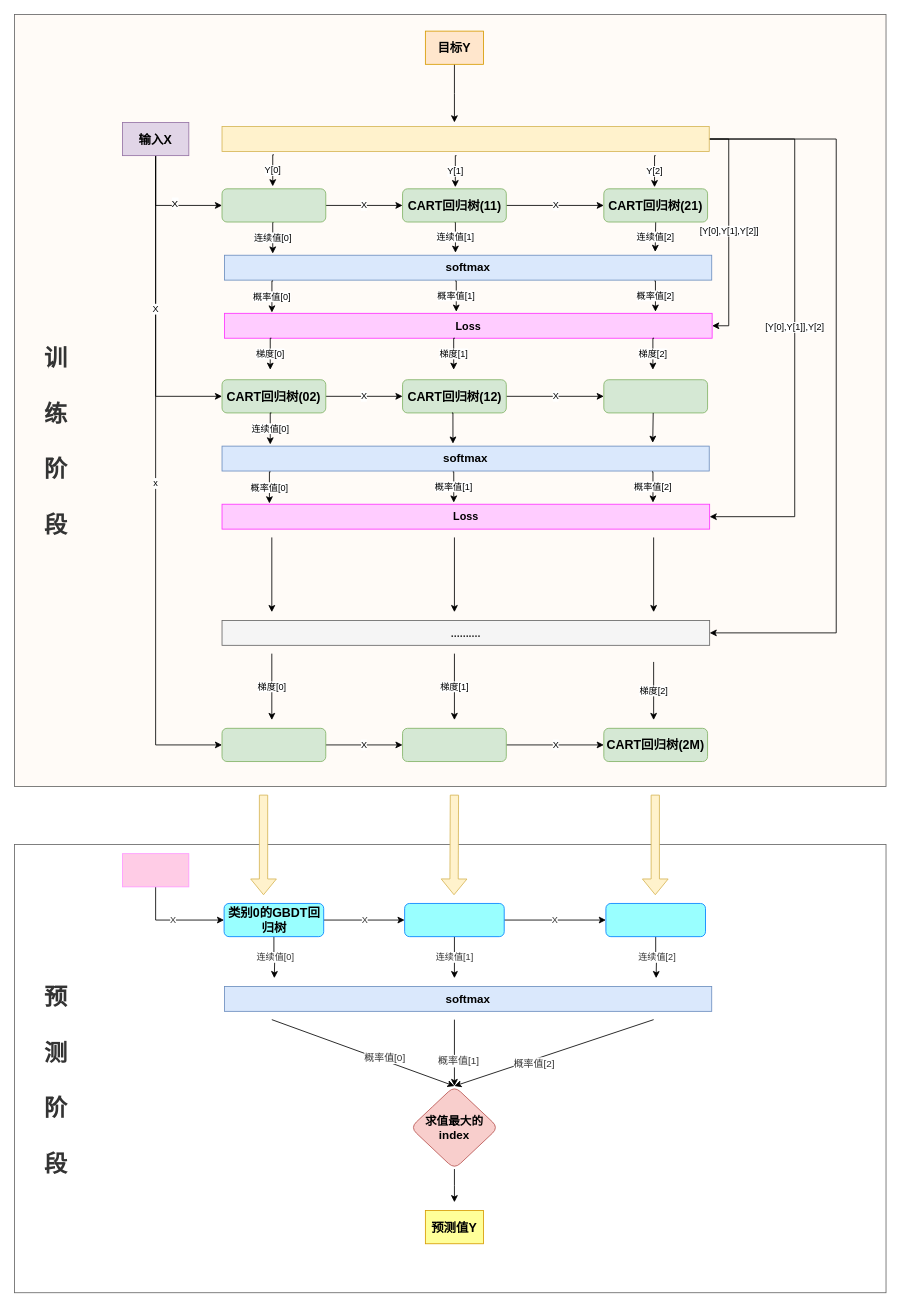
The diagram is 901 pixels wide and 1307 high, and some of its shapes have lost their labels. The shapes that lost their labels are listed below. From the top down, each one's centre as x and y in pixels, then its label:
At point (465, 138): "OneHot".
At point (273, 205): "CART回归树(01)".
At point (655, 396): "CART回归树(22)".
At point (273, 744): "CART回归树(0M)".
At point (454, 744): "CART回归树(1M)".
At point (155, 870): "预测X".
At point (454, 920): "类别1的GBDT回归树".
At point (655, 920): "类别2的GBDT回归树".
